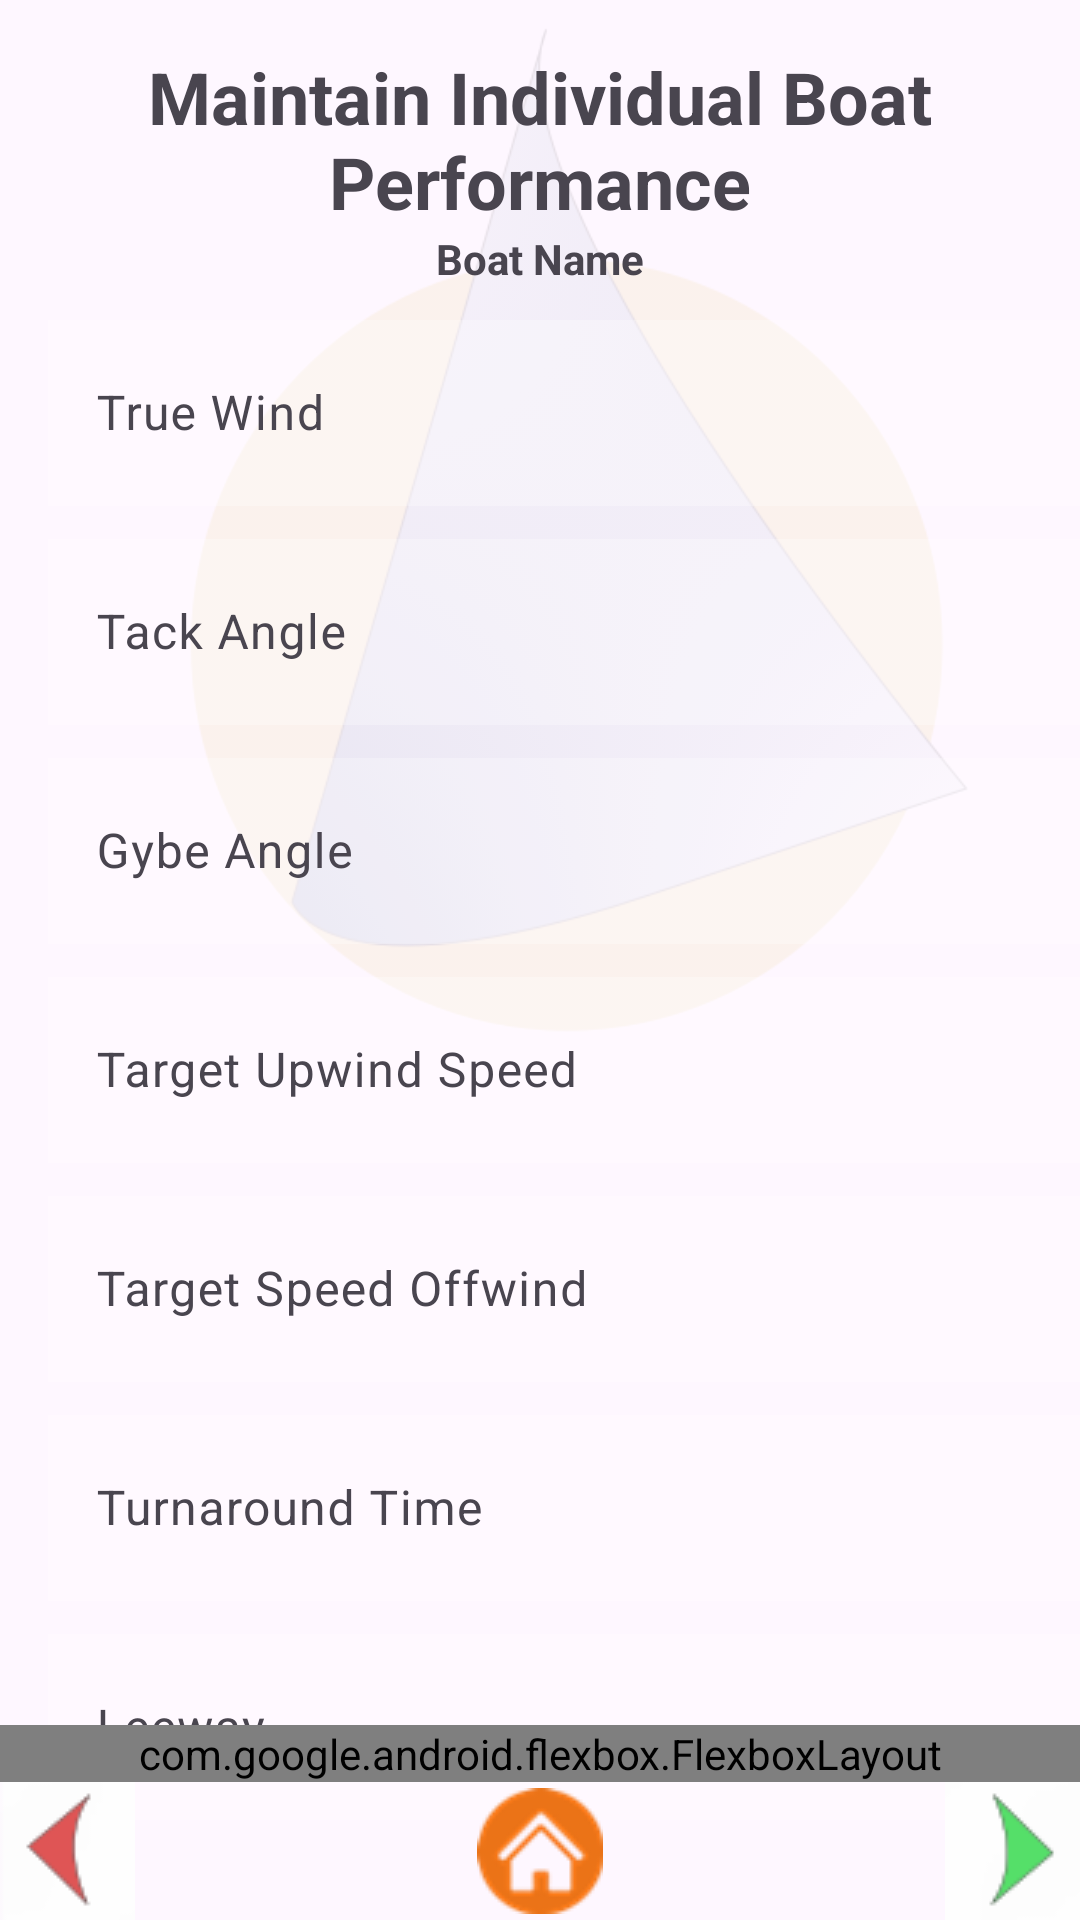

Named icons in this screenshot (1080px×1920px) and their centers, [x,y]:
Home: [540,1851]
Left Nav: [58,1849]
Right Nav: [1022,1849]
